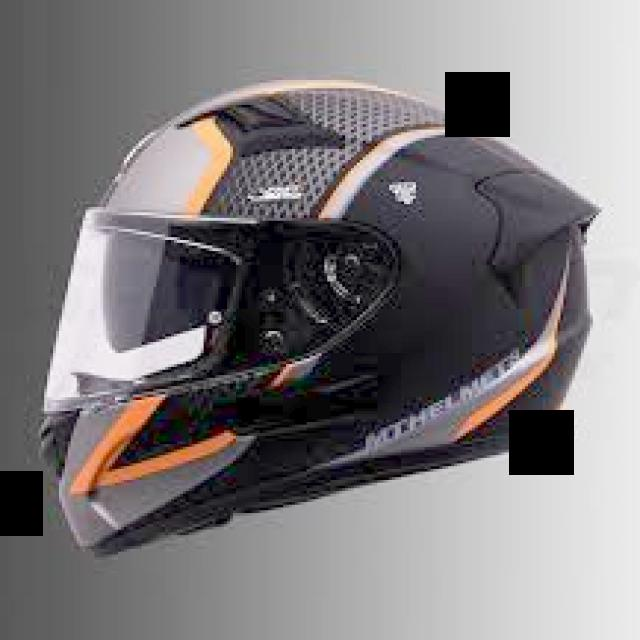Helmet: (13, 27, 640, 628)
